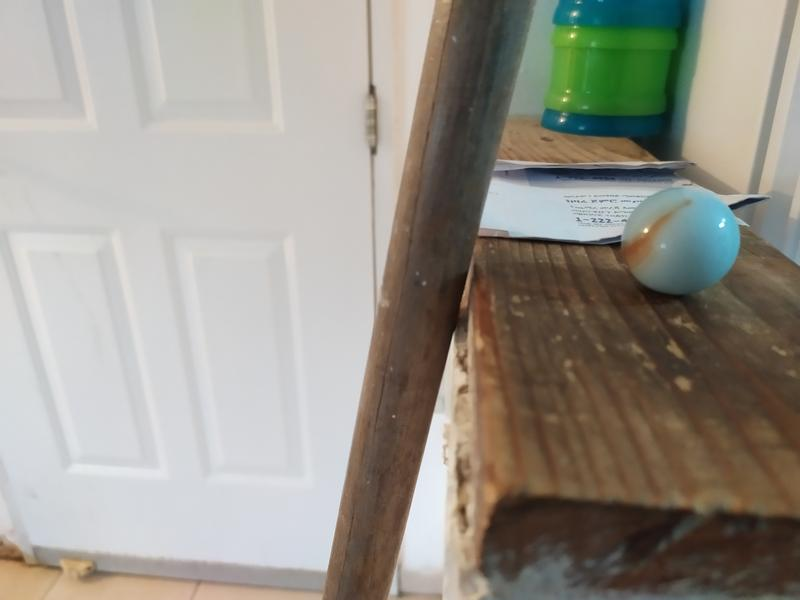Warning: (617, 182, 745, 298)
